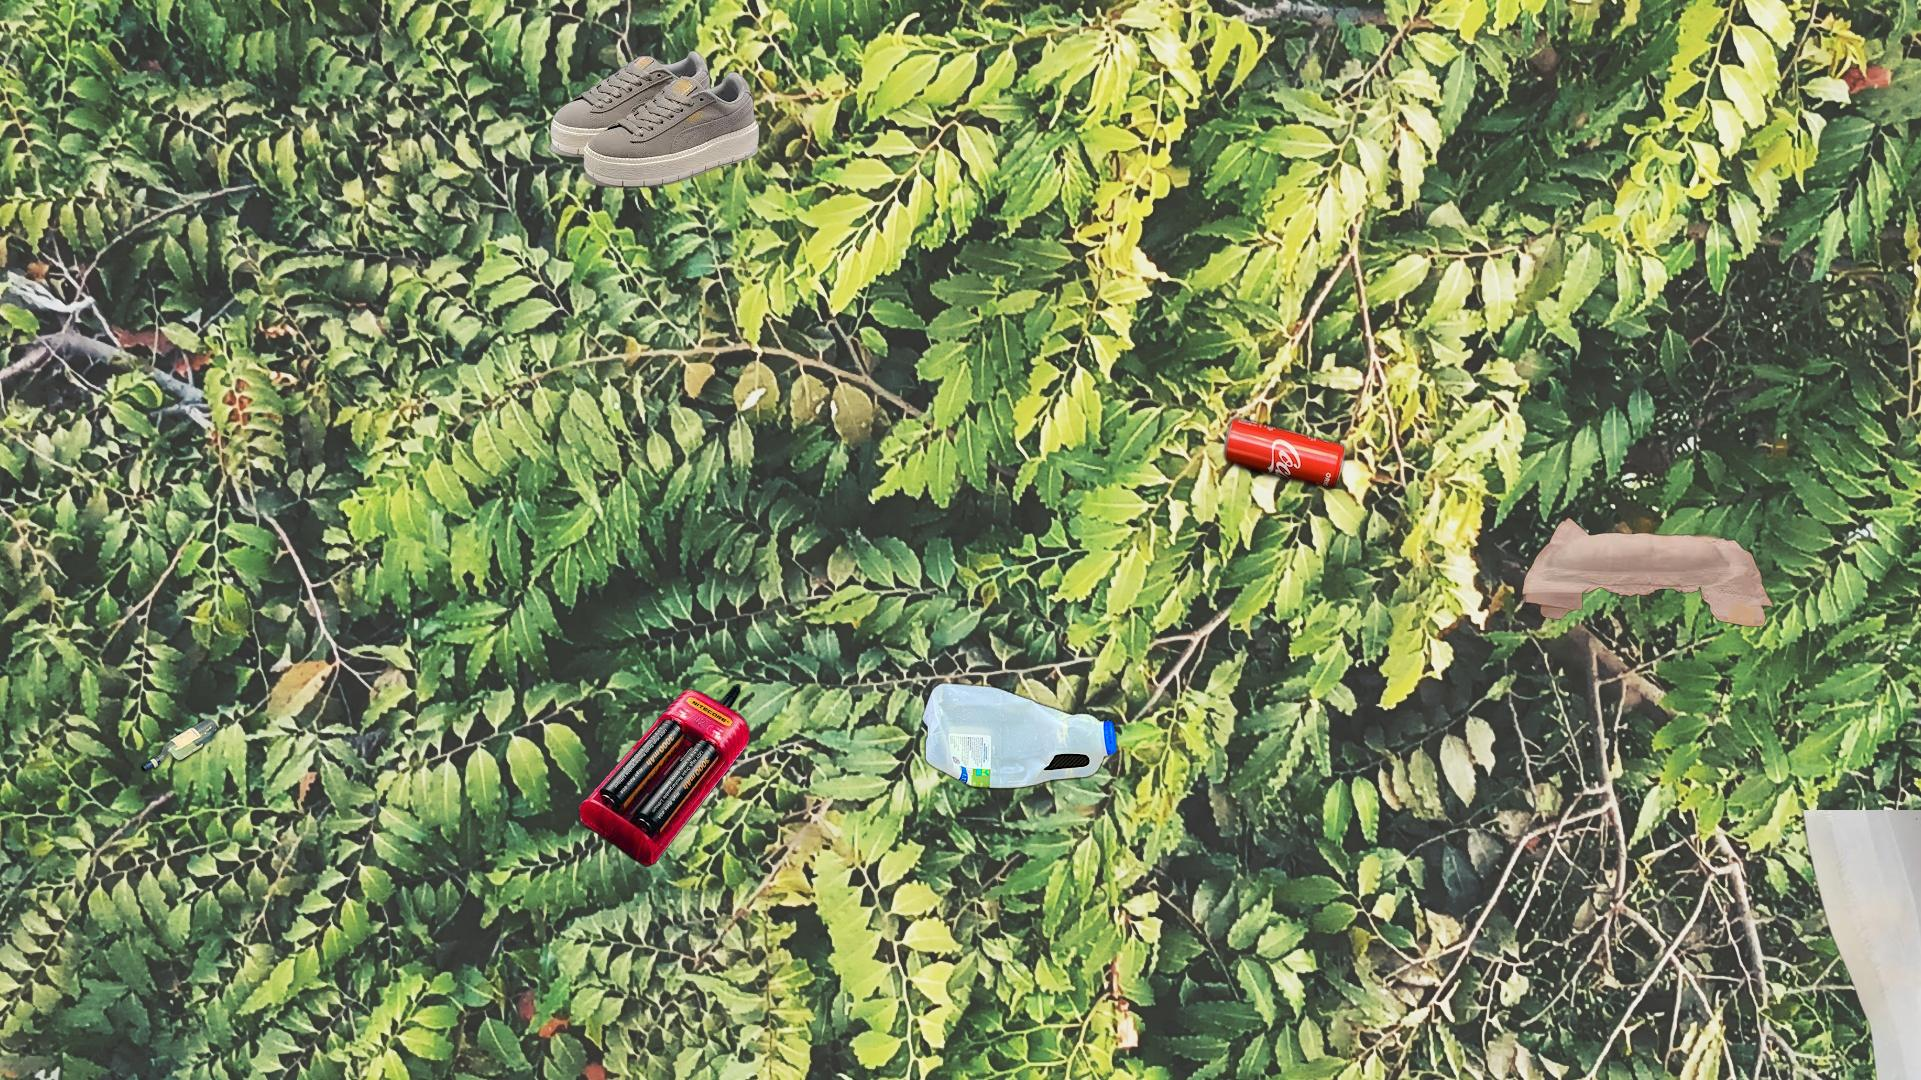battery: (577, 684, 753, 866)
glass: (137, 713, 222, 778)
metal-cans: (1052, 411, 1350, 903)
paper: (1796, 810, 1921, 1080)
plastic-bottles: (917, 676, 1121, 795)
shoes: (546, 47, 763, 191)
trash: (1519, 514, 1777, 630)
